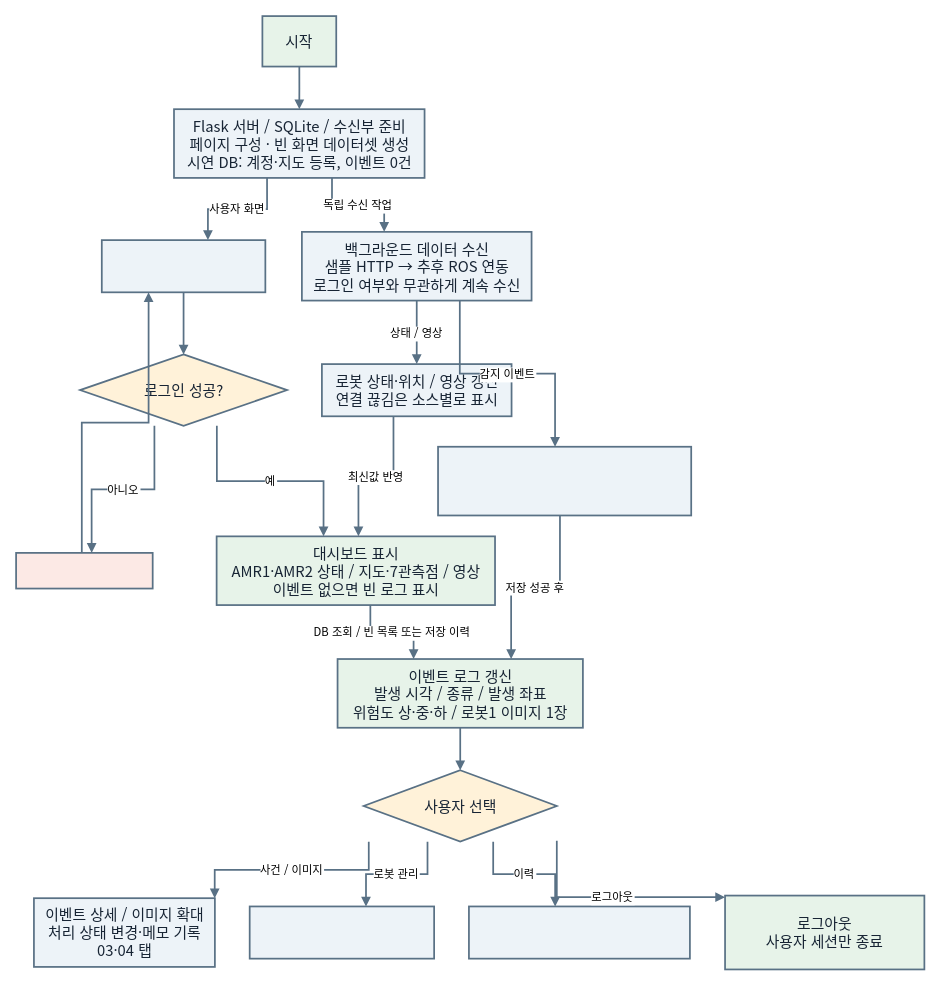
This 940x985 diagram has some shape labels left out. Each missing label, with the box of its shape:
로그인 화면 표시 아이디 / 비밀번호 입력: (100, 239, 266, 293)
사건·명령·순찰·교대 이력 검색 06 탭: (468, 905, 690, 959)
오류 표시 / 재입력: (15, 552, 153, 589)
운영 명령 요청 / 결과 확인 05 탭: (248, 905, 435, 959)
화재 이벤트 + 로봇1 증거 이미지 수신 검증 → 이미지 파일·DB 저장 상세 흐름: 02 탭: (437, 445, 692, 516)
